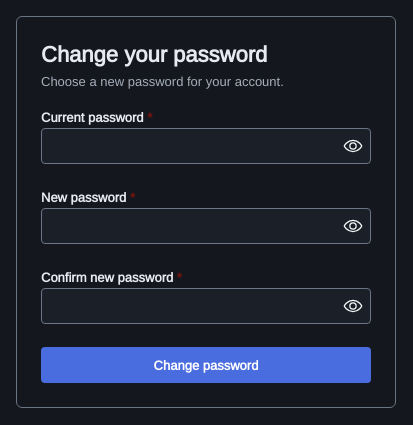
ChangePasswordView form › is one page with one top-level heading, and keeps the button live while naming what is missing
Expected: the number of headings is 1, [41,41,267,69]
Click the button "Change password" at (206, 365), box [41,347,371,383]
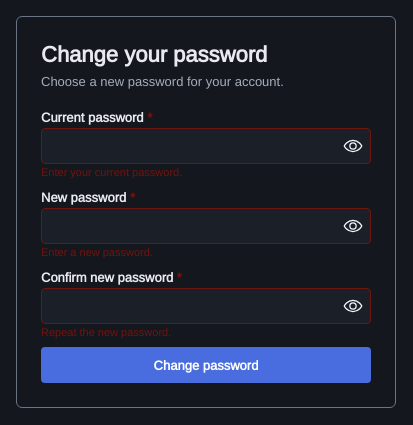
Expected: the text "Enter your current password." is shown, [41,165,182,179]
Expected: the text "Enter a new password." is shown, [41,245,153,259]
